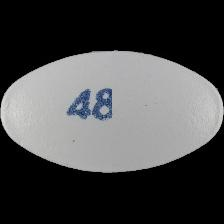0179-0151: (0, 0, 224, 224)
